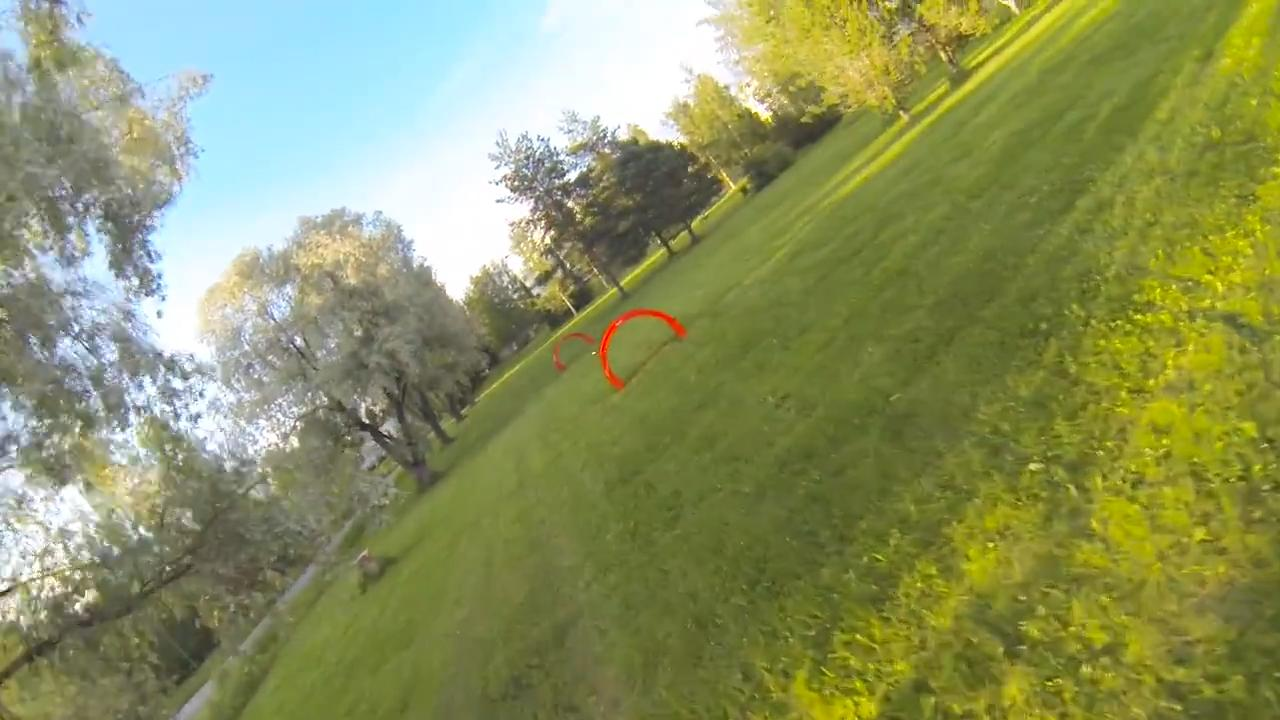gate: (597, 308, 690, 394)
